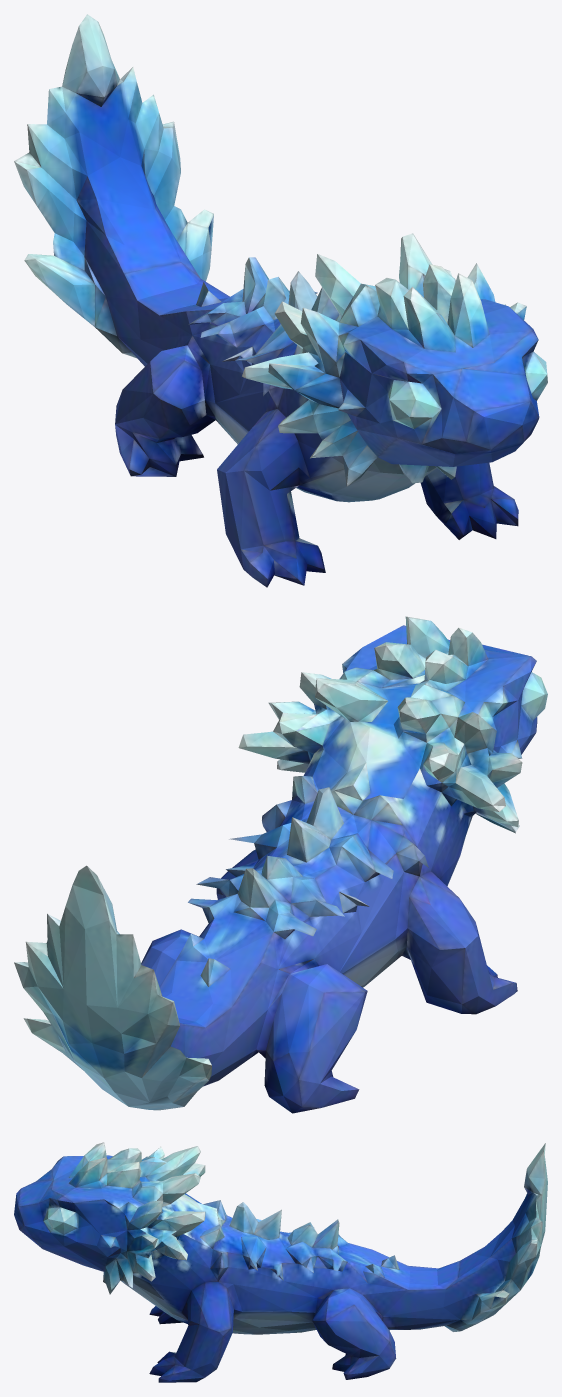
Rendered from foe_glassNewt.glb.
3 renders of one model, top to bottom at view 1: azimuth 30°, elevation 25°; view 2: azimuth 150°, elevation 25°; view 3: azimuth 270°, elevation 25°, orthographic. The views are drawn at different scales.
Visible parts, largest first — view 1: tripo_node_56b7dbb5-f7d0-4ea2-968d-20f4c32f01c4.001; view 2: tripo_node_56b7dbb5-f7d0-4ea2-968d-20f4c32f01c4.001; view 3: tripo_node_56b7dbb5-f7d0-4ea2-968d-20f4c32f01c4.001.
Part boxes in pixels (x1,y1,x2,y2): tripo_node_56b7dbb5-f7d0-4ea2-968d-20f4c32f01c4.001: (14, 14, 547, 587); tripo_node_56b7dbb5-f7d0-4ea2-968d-20f4c32f01c4.001: (14, 616, 547, 1113); tripo_node_56b7dbb5-f7d0-4ea2-968d-20f4c32f01c4.001: (14, 1142, 547, 1382).
Bounding box in the file's own units: 0.364 × 0.4197 × 1.
Materials: 1 (1 with a texture image).
